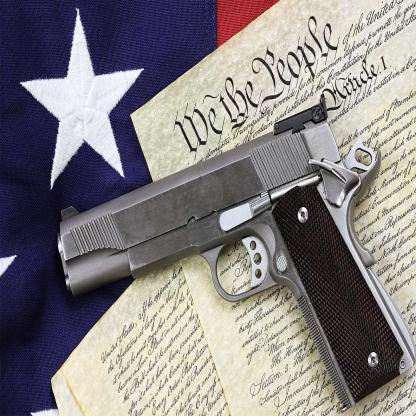gun: (46, 83, 415, 414), (45, 83, 196, 260), (386, 392, 410, 416)
